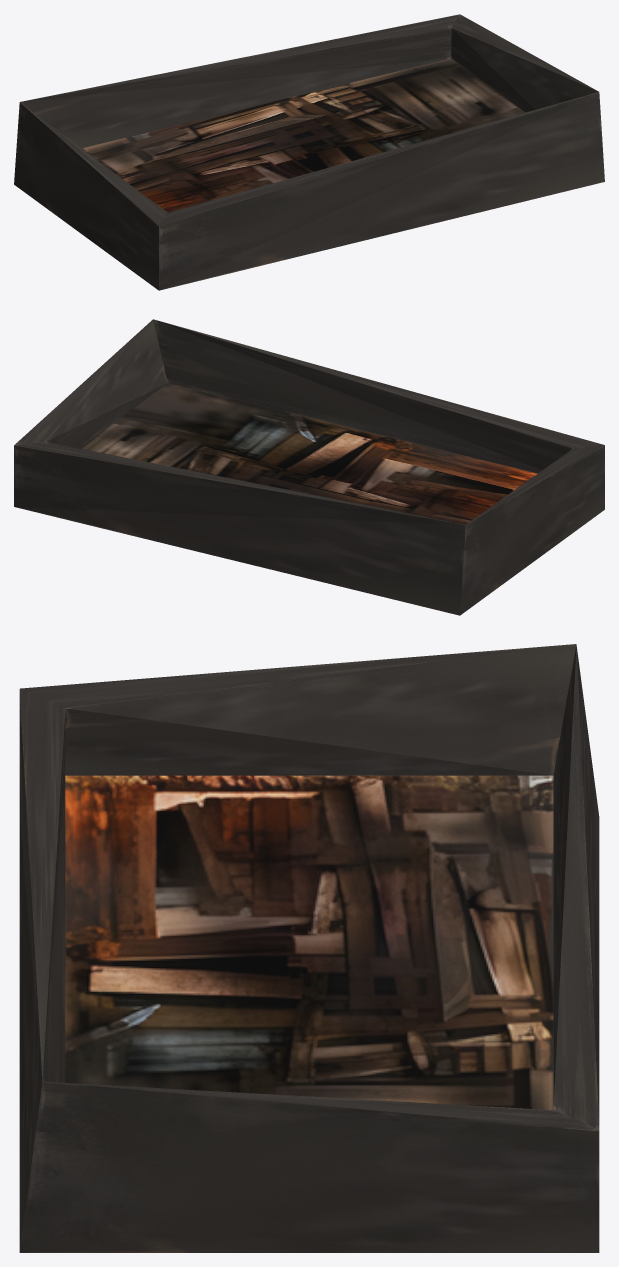
The model's file is hangerburned.gltf.
The picture shows the model from 3 angles, top to bottom: view 1: azimuth 30°, elevation 25°; view 2: azimuth 150°, elevation 25°; view 3: azimuth 270°, elevation 25°; orthographic projection. The views are drawn at different scales.
Parts seen in each view (by area): view 1: hangerburned_atomic0; view 2: hangerburned_atomic0; view 3: hangerburned_atomic0.
Boxes of the visible parts, x1,y1,x2,y2 form: hangerburned_atomic0: (14, 14, 604, 290); hangerburned_atomic0: (14, 319, 604, 615); hangerburned_atomic0: (19, 644, 599, 1252).
Size of the model in its own units: 34.42 by 6.4 by 19.37.
2 materials, 2 textured.
